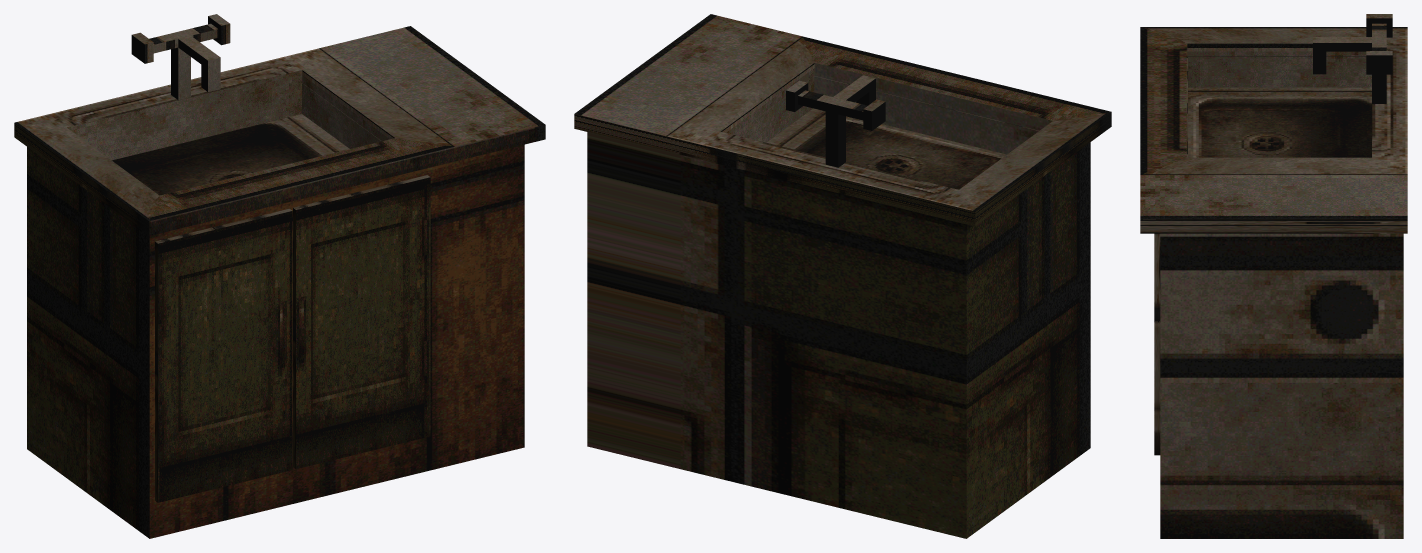
Rendered from env_sink.glb.
3 renders of one model, left to right at view 1: azimuth 30°, elevation 25°; view 2: azimuth 150°, elevation 25°; view 3: azimuth 270°, elevation 25°, orthographic.
Parts seen in each view (by area): view 1: env_sink; view 2: env_sink; view 3: env_sink.
Part boxes in pixels (x1,y1,x2,y2): env_sink: [14, 14, 545, 538]; env_sink: [574, 14, 1111, 538]; env_sink: [1140, 14, 1407, 538].
Size of the model in its own units: 1.56 by 1.49 by 0.921.
Materials: 1 (1 with a texture image).
